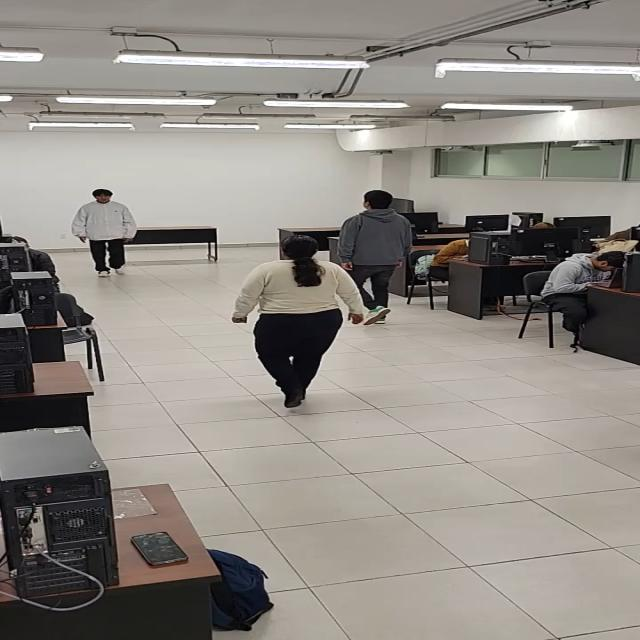Persona: (230, 234, 366, 408), (336, 190, 414, 325), (72, 187, 139, 279)
